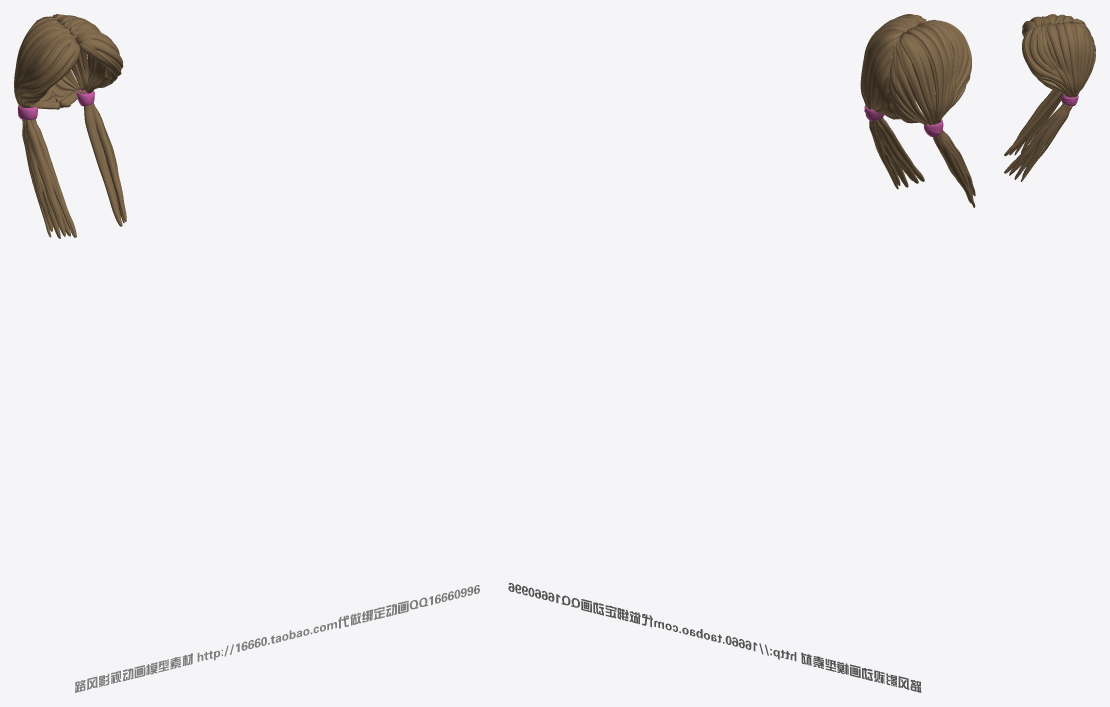
Rendered from lufeng.fbx.
3 renders of one model, left to right at view 1: azimuth 30°, elevation 25°; view 2: azimuth 150°, elevation 25°; view 3: azimuth 270°, elevation 25°, orthographic. The views are drawn at different scales.
Parts seen in each view (by area): view 1: tf:polySurface1; view 2: tf:polySurface1; view 3: tf:polySurface1.
Part boxes in pixels (box(x1,y1,x2,y2)): tf:polySurface1: box(14, 14, 126, 238); tf:polySurface1: box(860, 14, 975, 207); tf:polySurface1: box(1004, 14, 1095, 181).
Size of the model in its own units: 125 by 176 by 28.12.
